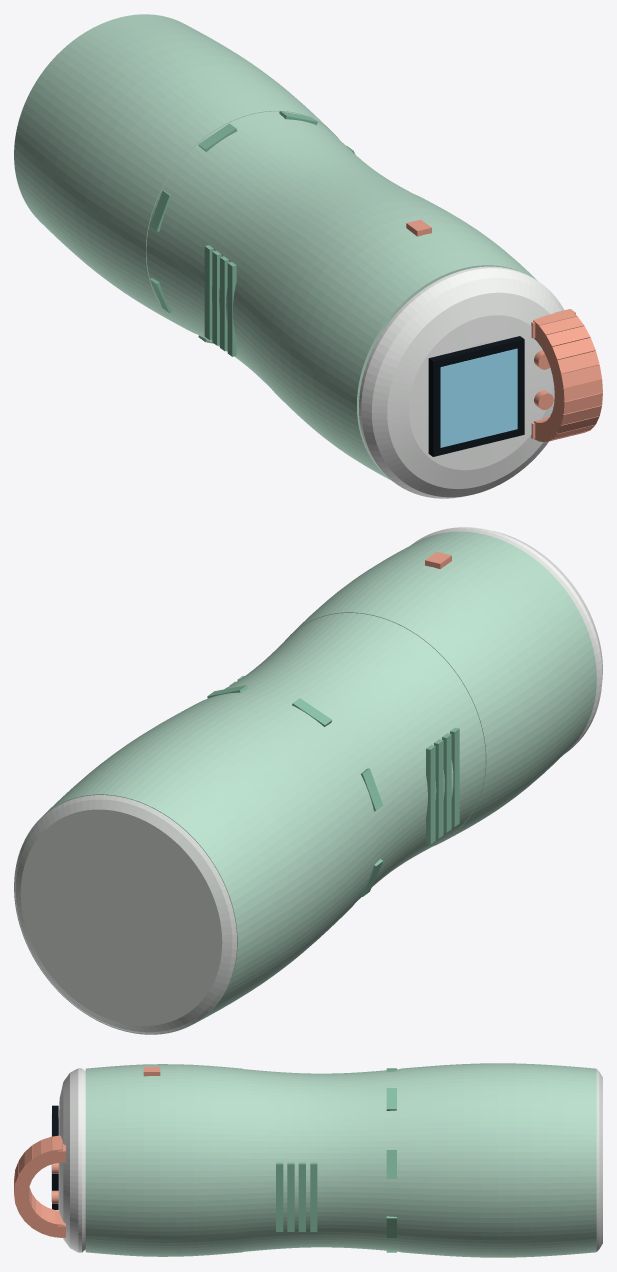
File: thermox_bottle_pebble.obj
The picture shows the model from 3 angles, top to bottom: view 1: azimuth 30°, elevation 25°; view 2: azimuth 150°, elevation 25°; view 3: azimuth 270°, elevation 25°; orthographic projection. The views are drawn at different scales.
Visible parts, largest first — view 1: body_lower, body_upper, body_waist, lid, oled_screen, oled_1_5in, exhaust_slot_rear_1, exhaust_slot_rear_4, exhaust_slot_rear_2, loop_05, exhaust_slot_rear_3, loop_06 (+4 smaller); view 2: body_lower, base_pad, body_upper, body_waist, lid, exhaust_slot_rear_1, exhaust_slot_rear_2, exhaust_slot_rear_3, exhaust_slot_rear_4; view 3: body_lower, body_upper, body_waist, lid, base_pad, exhaust_slot_front_3, exhaust_slot_front_1, exhaust_slot_front_2, exhaust_slot_front_4, oled_1_5in, intake_slot_1, loop_02 (+1 smaller).
Boxes of the visible parts, x1=… form: body_lower: x1=14, y1=14, x2=338, y2=333; body_upper: x1=251, y1=188, x2=536, y2=479; body_waist: x1=146, y1=111, x2=412, y2=386; lid: x1=359, y1=266, x2=563, y2=498; oled_screen: x1=440, y1=348, x2=517, y2=447; oled_1_5in: x1=428, y1=336, x2=524, y2=456; exhaust_slot_rear_1: x1=204, y1=245, x2=213, y2=339; exhaust_slot_rear_4: x1=227, y1=262, x2=236, y2=356; exhaust_slot_rear_2: x1=212, y1=250, x2=221, y2=345; loop_05: x1=550, y1=351, x2=599, y2=376; exhaust_slot_rear_3: x1=220, y1=256, x2=228, y2=351; loop_06: x1=553, y1=365, x2=601, y2=387; body_lower: x1=14, y1=693, x2=375, y2=1034; base_pad: x1=14, y1=795, x2=236, y2=1034; body_upper: x1=283, y1=531, x2=596, y2=845; body_waist: x1=207, y1=613, x2=485, y2=901; lid: x1=411, y1=527, x2=602, y2=753; exhaust_slot_rear_1: x1=426, y1=745, x2=435, y2=844; exhaust_slot_rear_2: x1=434, y1=739, x2=443, y2=838; exhaust_slot_rear_3: x1=442, y1=733, x2=451, y2=832; exhaust_slot_rear_4: x1=450, y1=727, x2=459, y2=826; body_lower: x1=400, y1=1063, x2=596, y2=1257; body_upper: x1=85, y1=1064, x2=242, y2=1256; body_waist: x1=243, y1=1069, x2=400, y2=1251; lid: x1=58, y1=1068, x2=85, y2=1252; base_pad: x1=596, y1=1069, x2=602, y2=1251; exhaust_slot_front_3: x1=287, y1=1162, x2=294, y2=1231; exhaust_slot_front_1: x1=310, y1=1162, x2=317, y2=1231; exhaust_slot_front_2: x1=298, y1=1162, x2=305, y2=1231; exhaust_slot_front_4: x1=276, y1=1162, x2=283, y2=1231; oled_1_5in: x1=52, y1=1105, x2=58, y2=1209; intake_slot_1: x1=386, y1=1150, x2=396, y2=1178; loop_02: x1=42, y1=1136, x2=54, y2=1165.
Size of the model in its own units: 94 by 97 by 285.
